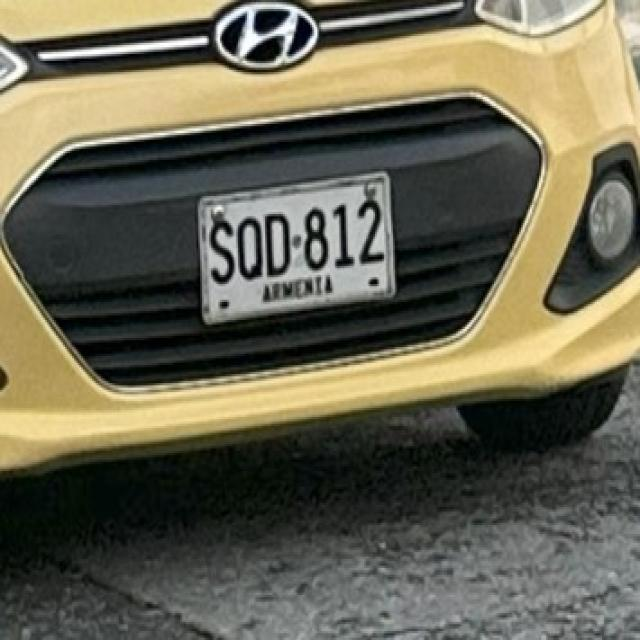number plate: (197, 169, 393, 320)
